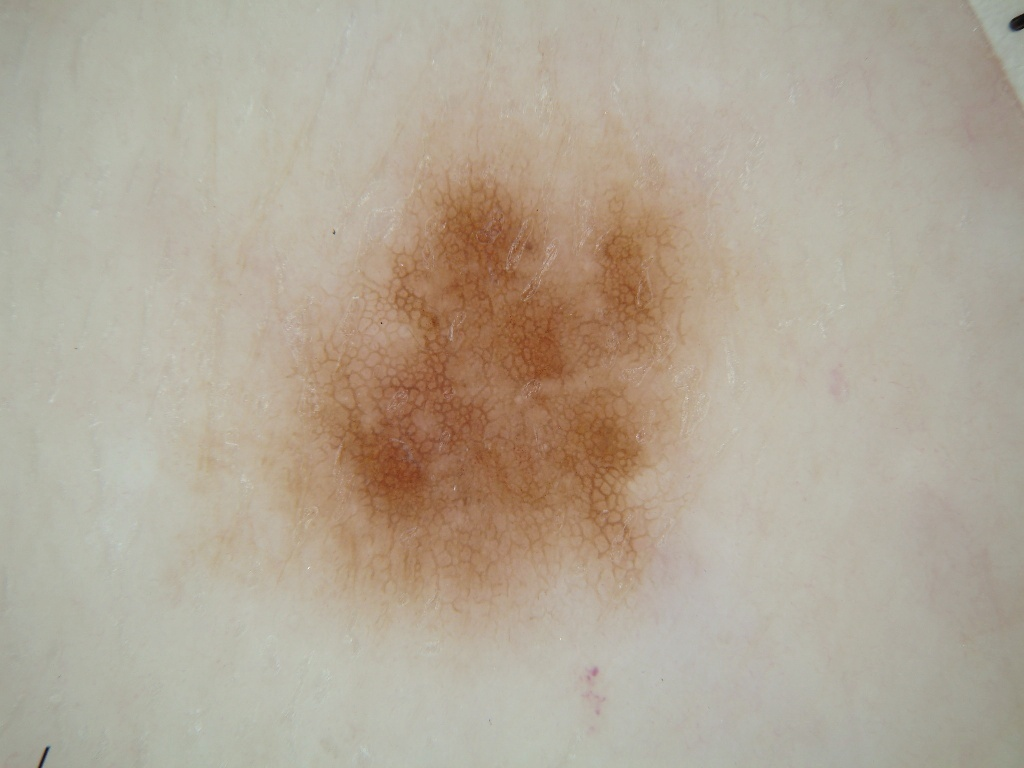Detected Lesion: (254, 129, 695, 624)
